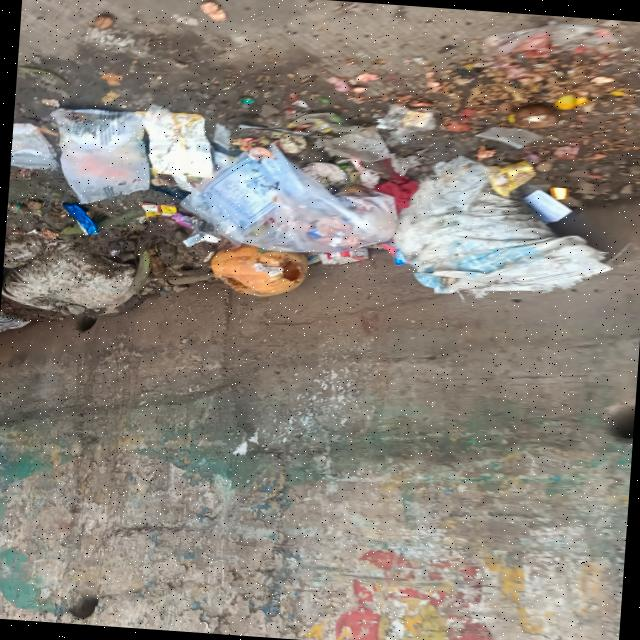garbage: (0, 98, 611, 361)
